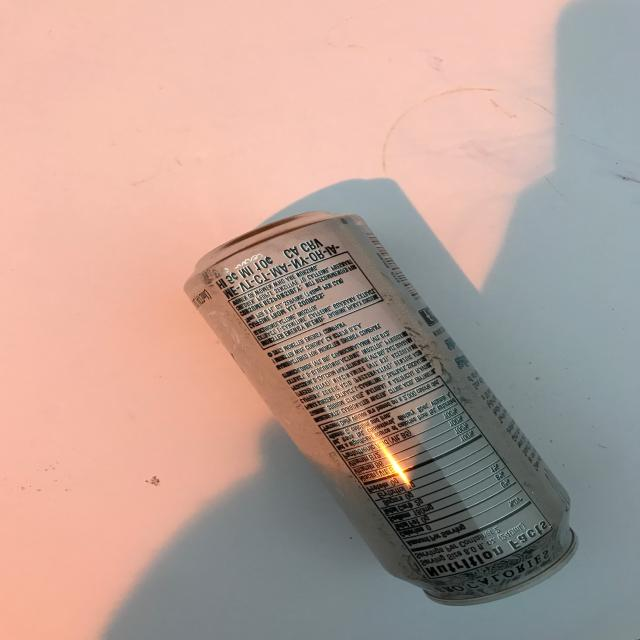metal: (183, 209, 579, 606)
